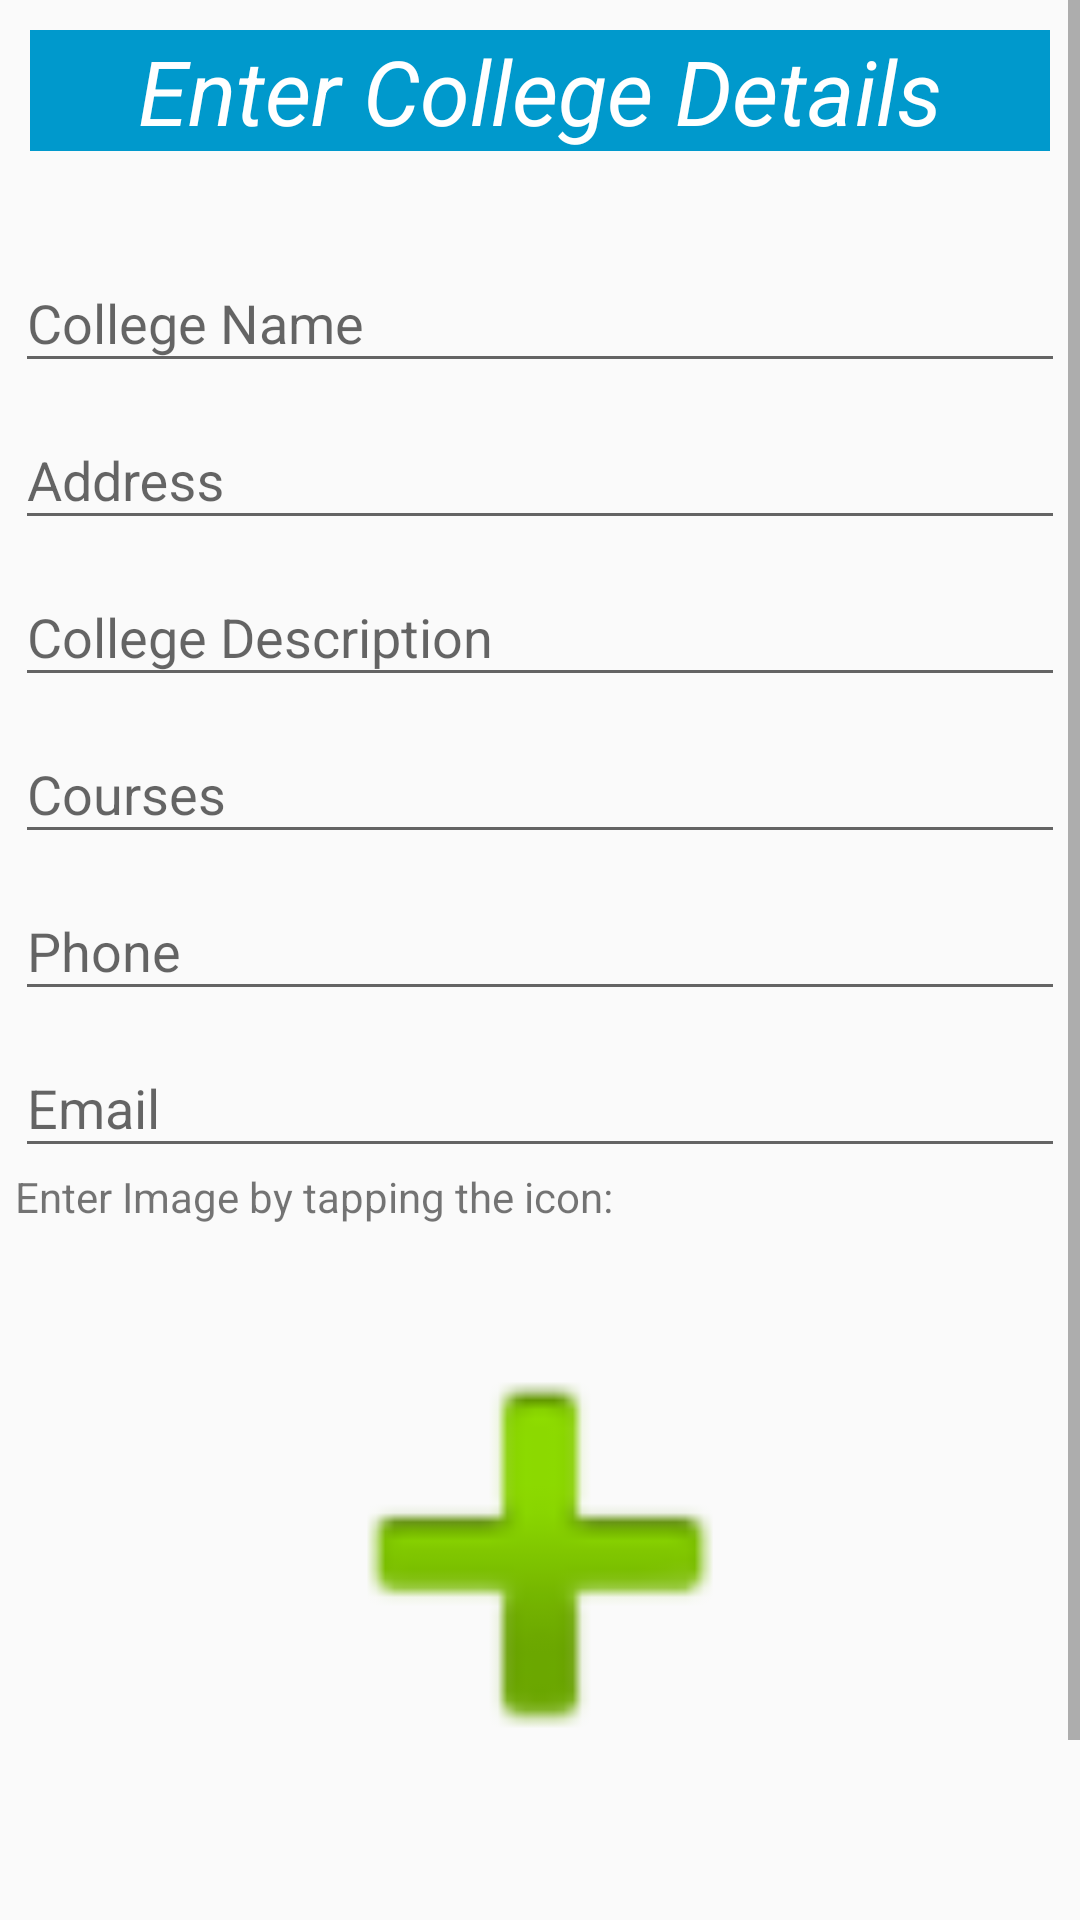

Locate icon controls on the screen. Image size 1080w x 1920h, boxes as bbox(x1, y1, x2, y2).
add: bbox(369, 1384, 711, 1725)
